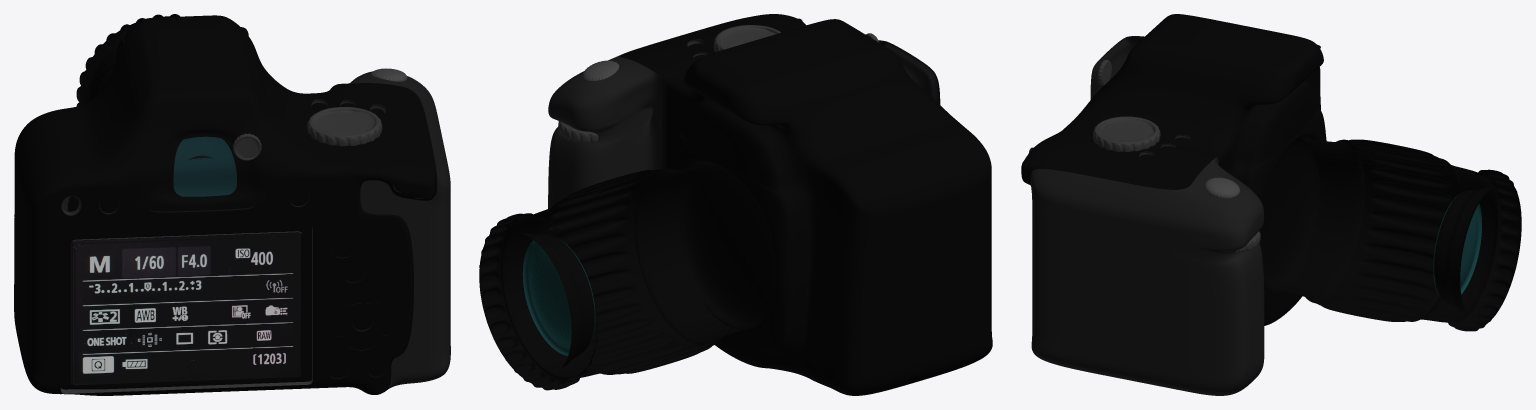
File: kamera.glb
3 renders of one model, left to right at view 1: azimuth 30°, elevation 25°; view 2: azimuth 150°, elevation 25°; view 3: azimuth 270°, elevation 25°, orthographic. The views are drawn at different scales.
Visible parts, largest first — view 1: kamera; view 2: kamera; view 3: kamera.
Boxes of the visible parts, x1,y1,x2,y2 form: kamera: (14, 14, 450, 395); kamera: (479, 14, 992, 395); kamera: (1021, 14, 1521, 395).
Size of the model in its own units: 1.99 by 1.33 by 2.28.
Materials: 9 (1 with a texture image).
